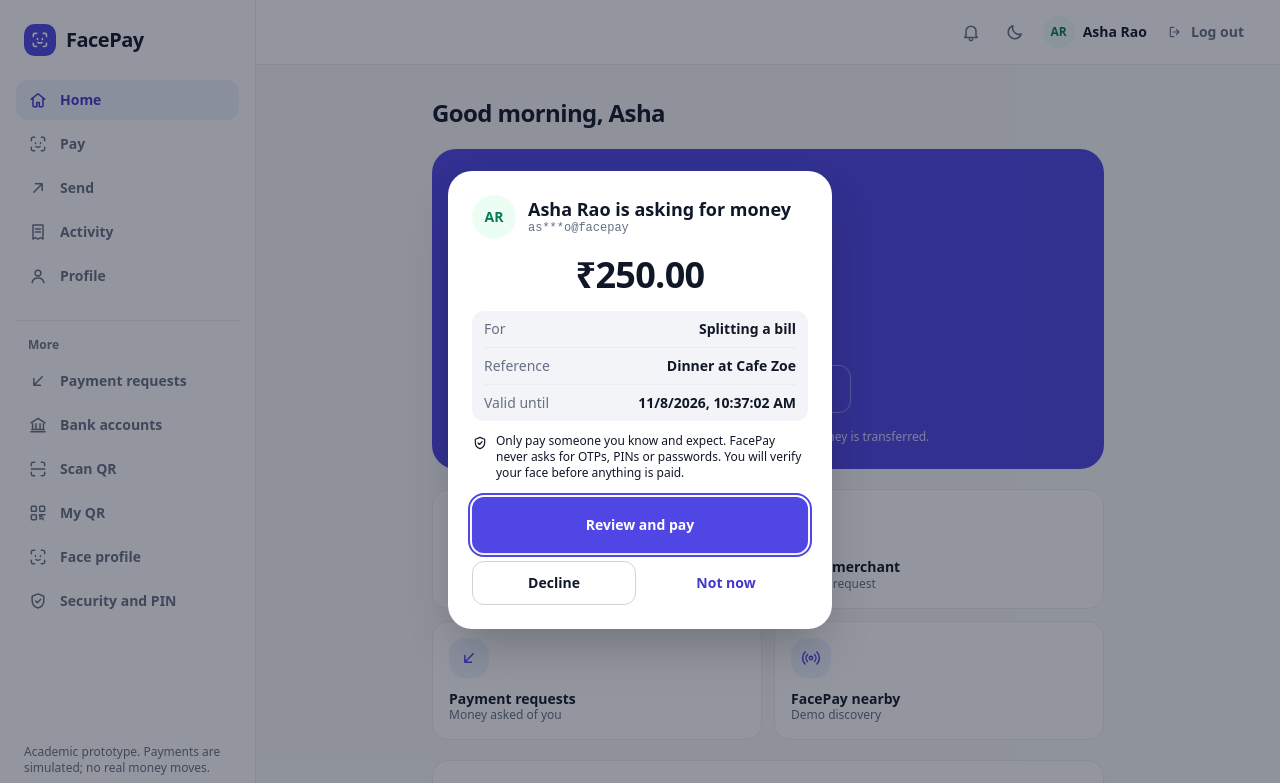
Test: the incoming request pop-up › Not now closes it and it stays closed on the next check
This screenshot has width=1280, height=783.
Click the button "Not now": (726,583) [644,561,808,605]
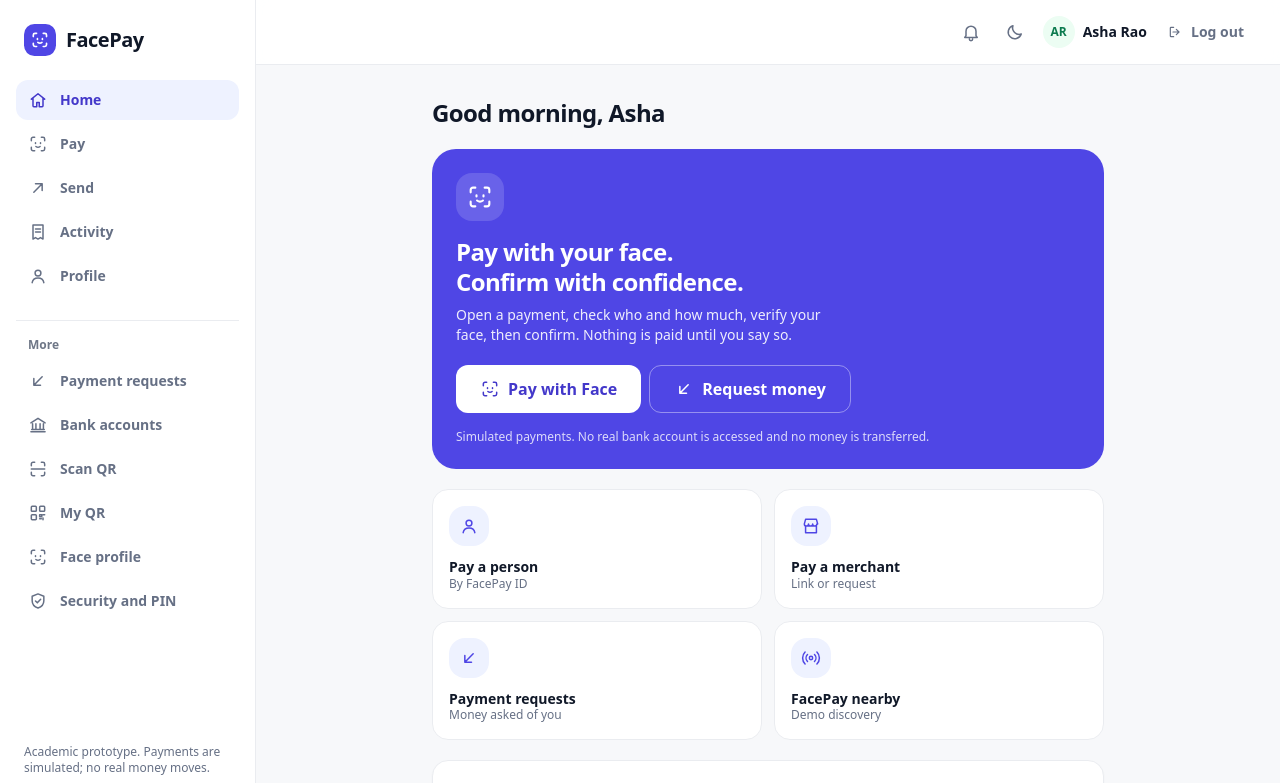
expect the dialog is gone: met
